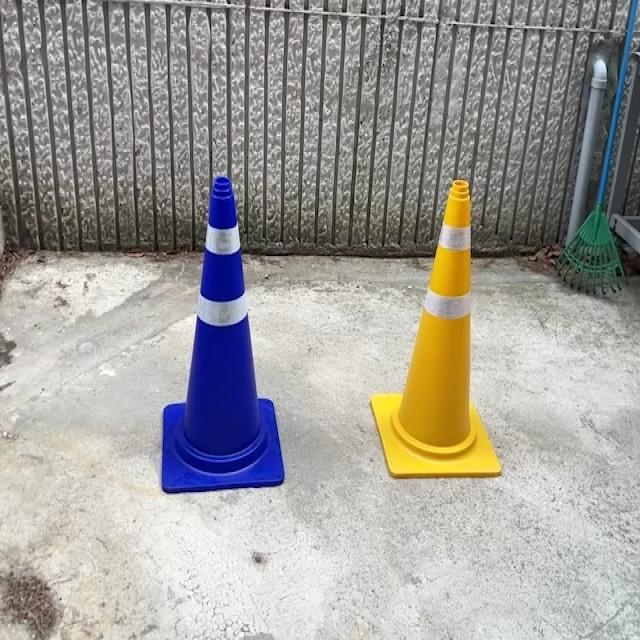b_rub: (162, 176, 285, 493)
y_rub: (372, 180, 502, 478)
